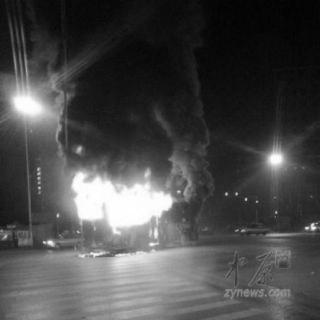Smoke: (55, 2, 198, 178)
